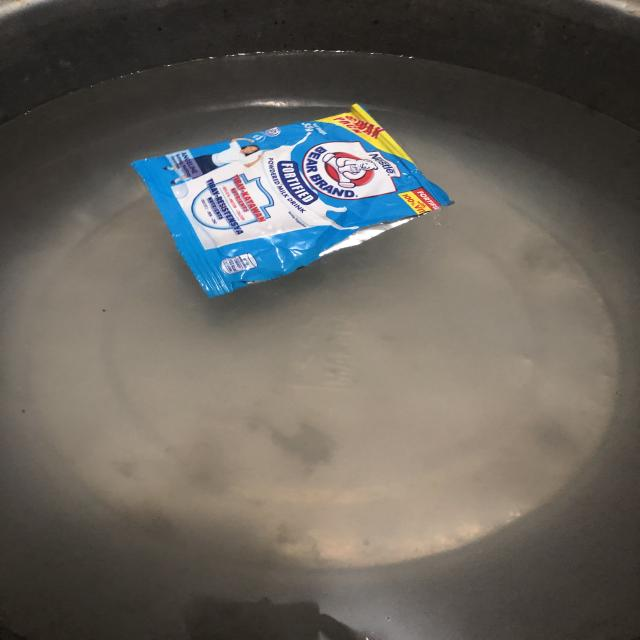Plastic Wrapper: (133, 104, 452, 297)
